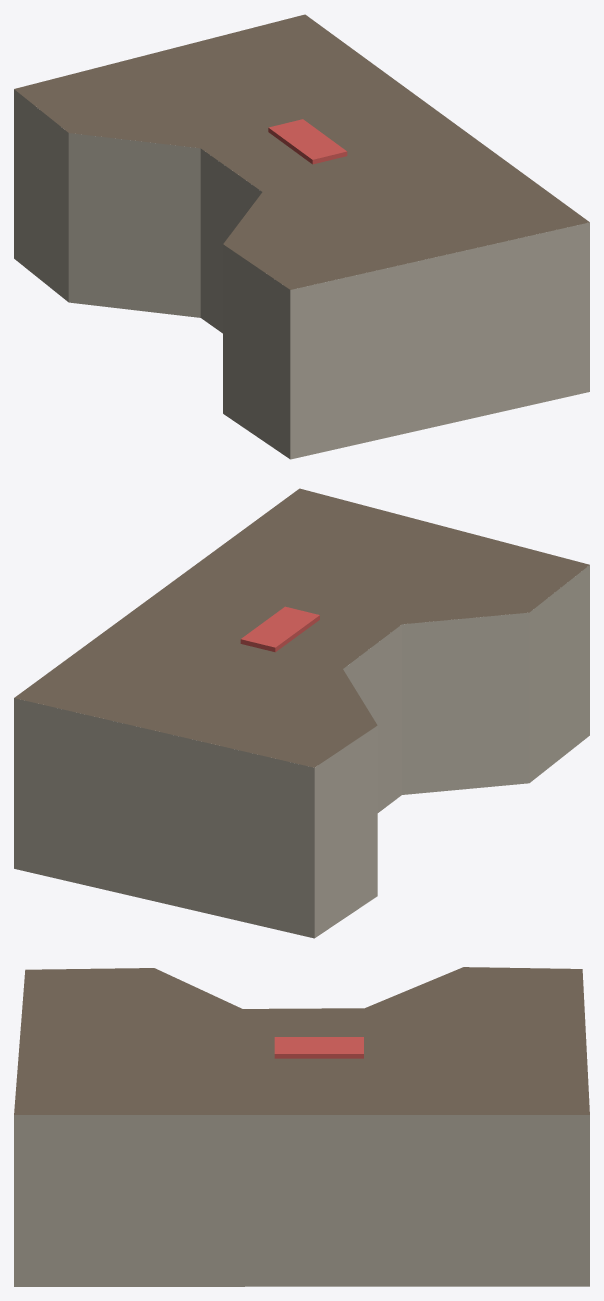
The model's file is evacuee_trust_complex_far.glb.
3 views of the same model, one above another, from view 1: azimuth 30°, elevation 25°; view 2: azimuth 150°, elevation 25°; view 3: azimuth 270°, elevation 25° (orthographic).
Parts seen in each view (by area): view 1: m_wall_neutral, m_roof_bitumen, m_atrium_canopy; view 2: m_wall_neutral, m_roof_bitumen, m_atrium_canopy; view 3: m_wall_neutral, m_roof_bitumen, m_atrium_canopy.
Boxes of the visible parts, <box> form: m_wall_neutral: <box>14,89,589,459</box>; m_roof_bitumen: <box>14,14,589,289</box>; m_atrium_canopy: <box>268,119,347,164</box>; m_wall_neutral: <box>14,565,589,938</box>; m_roof_bitumen: <box>14,488,589,767</box>; m_atrium_canopy: <box>240,606,319,652</box>; m_wall_neutral: <box>14,1115,589,1286</box>; m_roof_bitumen: <box>14,967,589,1114</box>; m_atrium_canopy: <box>274,1037,363,1058</box>.
Bounding box in the file's own units: 81.29 × 45.2 × 134.
